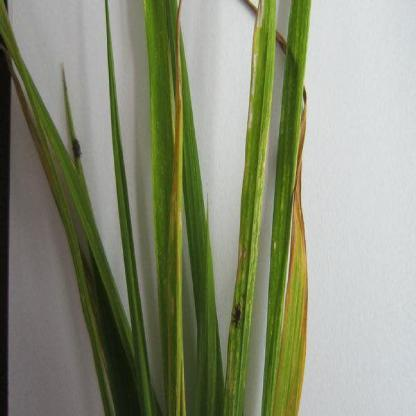rice-bug: (230, 300, 245, 331), (71, 138, 83, 160)
